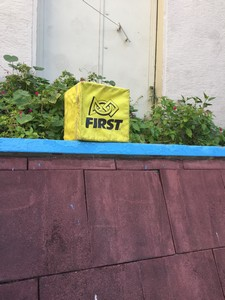cube: (60, 81, 131, 144)
